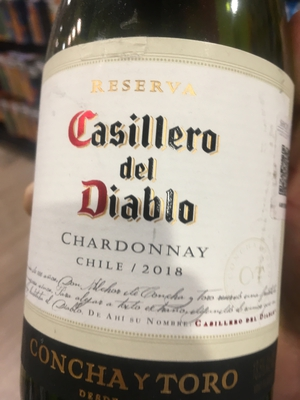casillero del diablo chardonnay: (22, 20, 298, 400)
